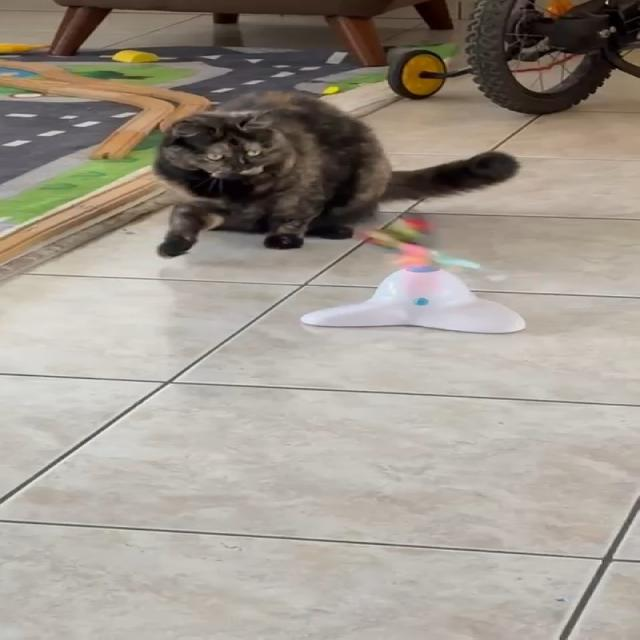authorized: (147, 89, 520, 258)
